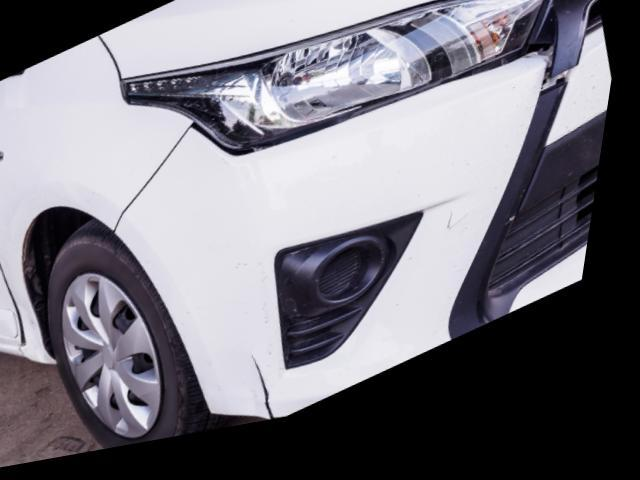crack: (263, 364, 289, 432)
